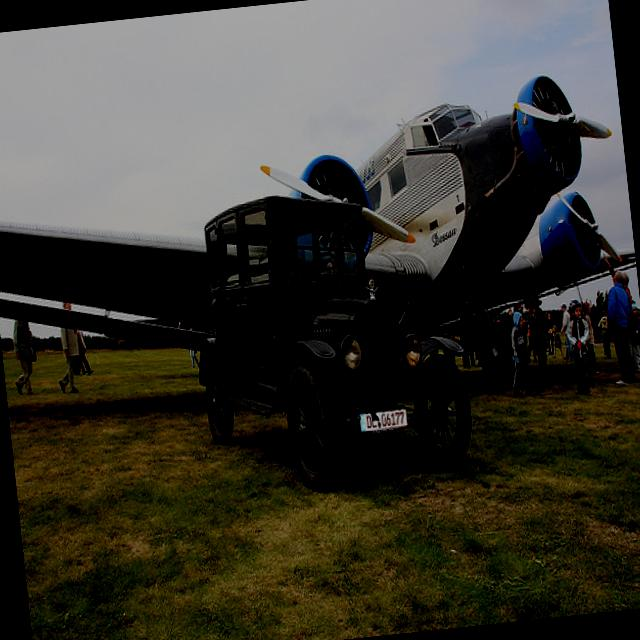Vehicle: (180, 172, 480, 498)
